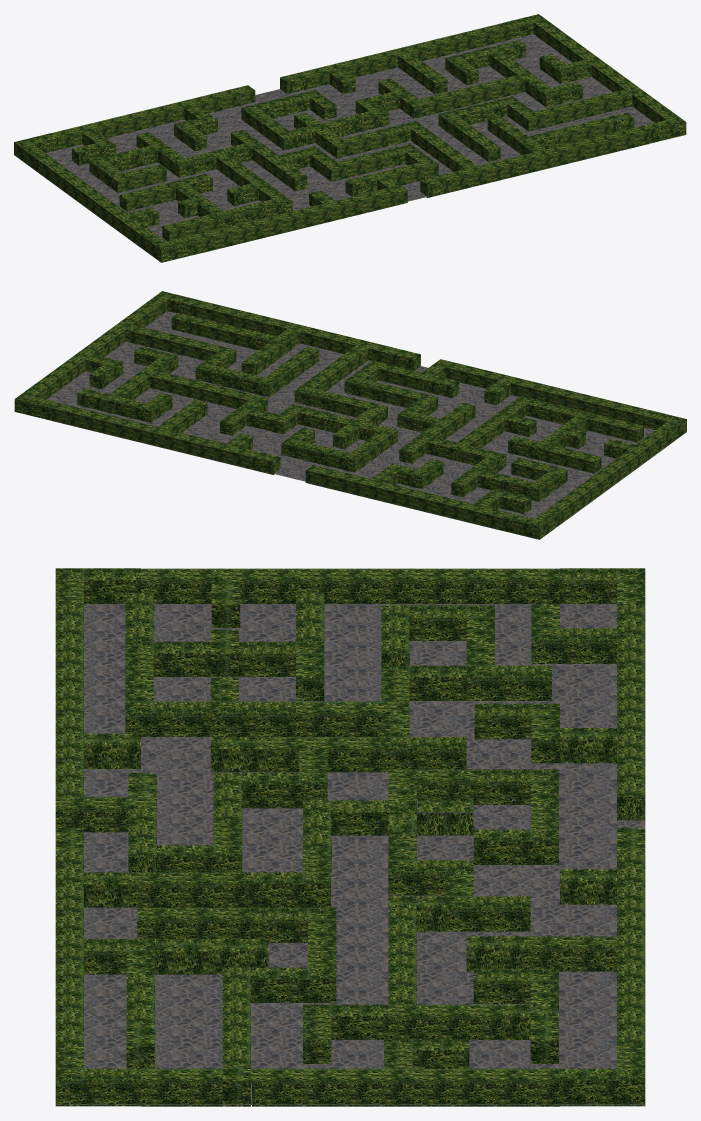
File: Laberintos1.fbx
3 renders of one model, top to bottom at view 1: azimuth 30°, elevation 25°; view 2: azimuth 150°, elevation 25°; view 3: azimuth 270°, elevation 25°, orthographic. The views are drawn at different scales.
Parts seen in each view (by area): view 1: Laberinto_1; view 2: Laberinto_1; view 3: Laberinto_1.
Part boxes in pixels (box(x1,y1,x2,y2)): Laberinto_1: box(14, 14, 686, 262); Laberinto_1: box(14, 291, 686, 539); Laberinto_1: box(55, 568, 645, 1106).
Size of the model in its own units: 6400 by 151 by 3109.
Materials: 1 (1 with a texture image).
